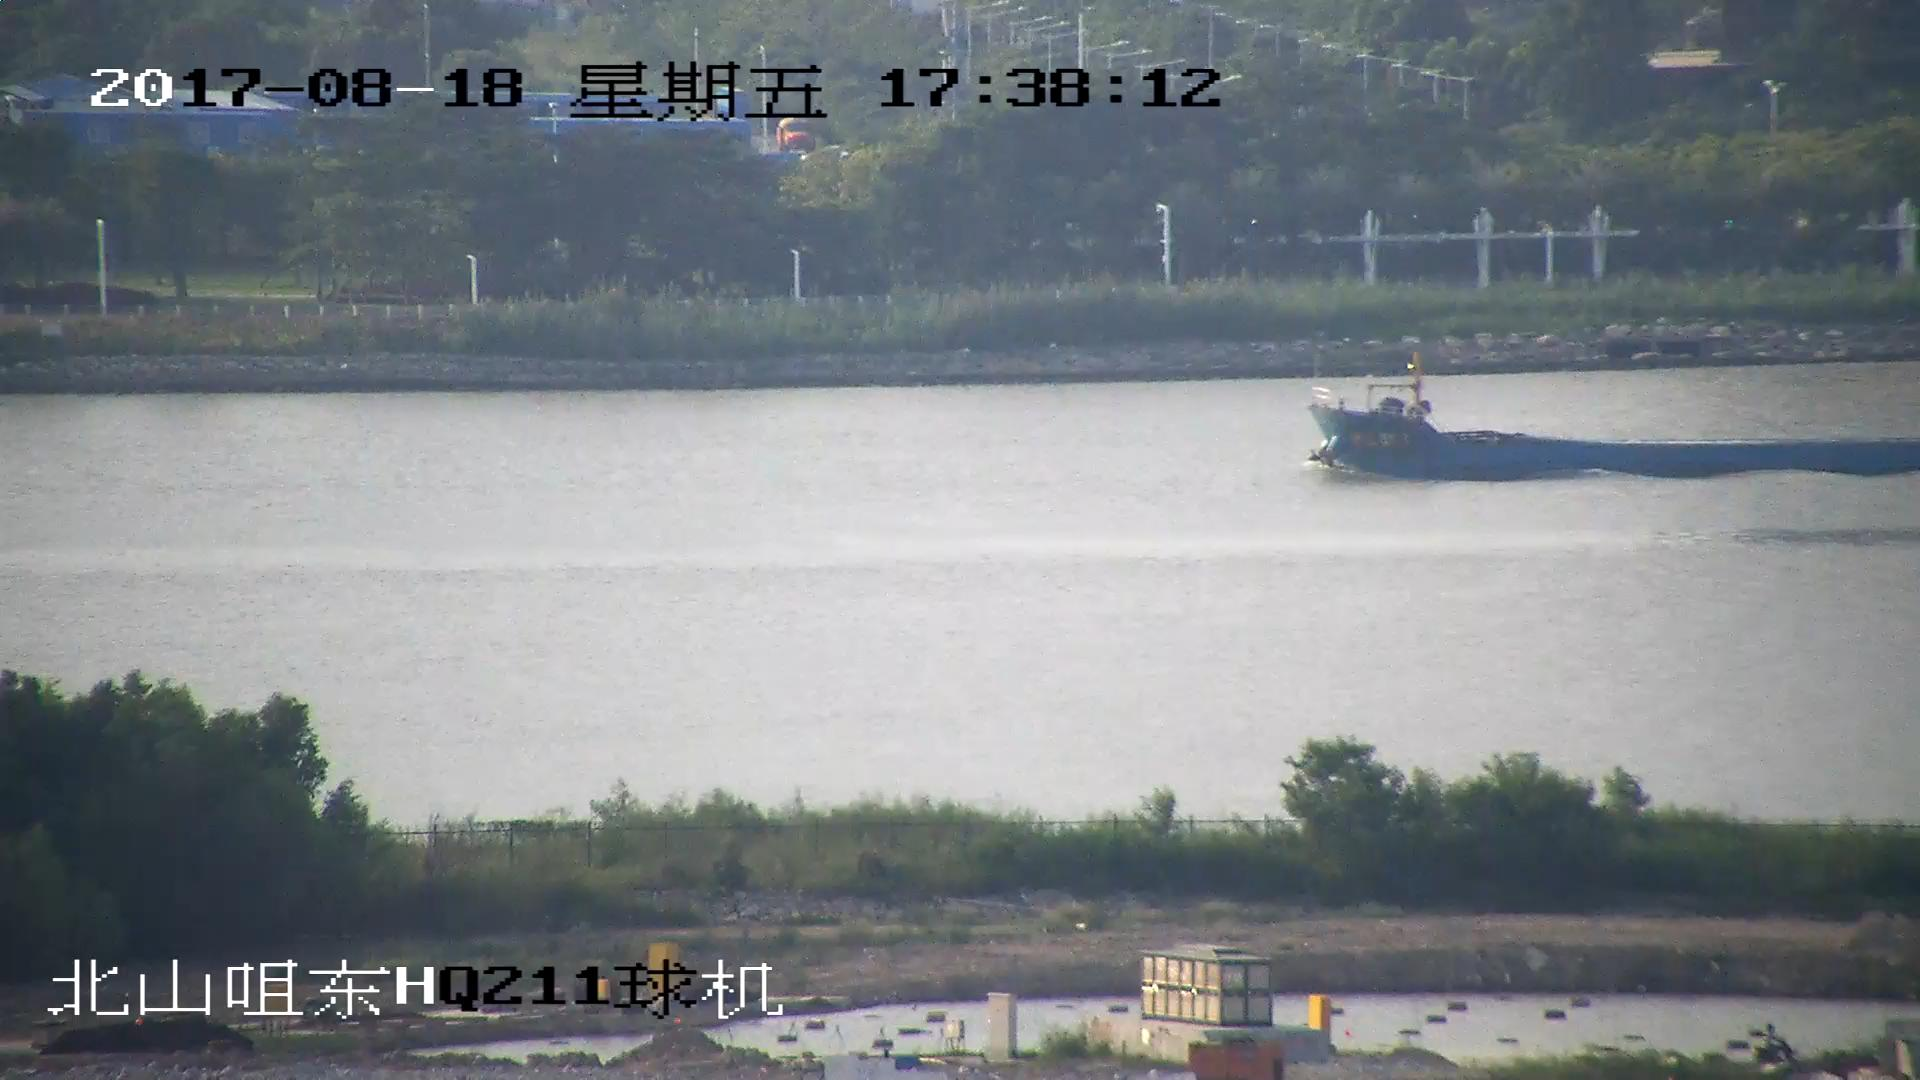general cargo ship: (1306, 355, 1920, 484)
